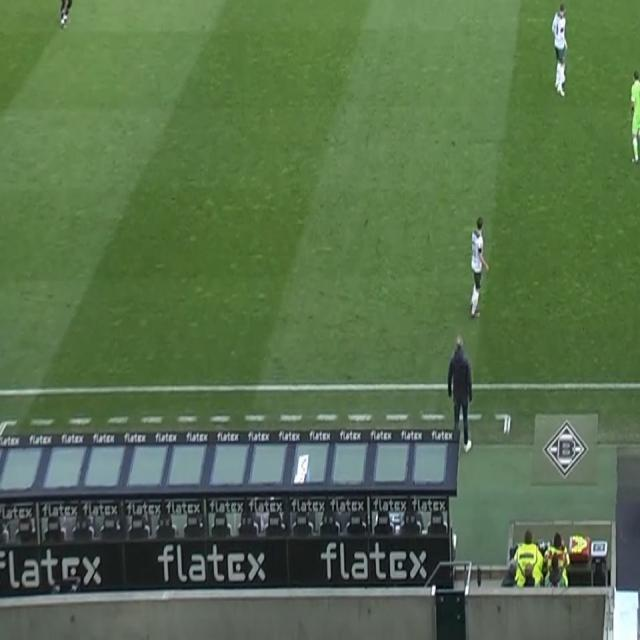ball: (557, 69, 566, 86)
